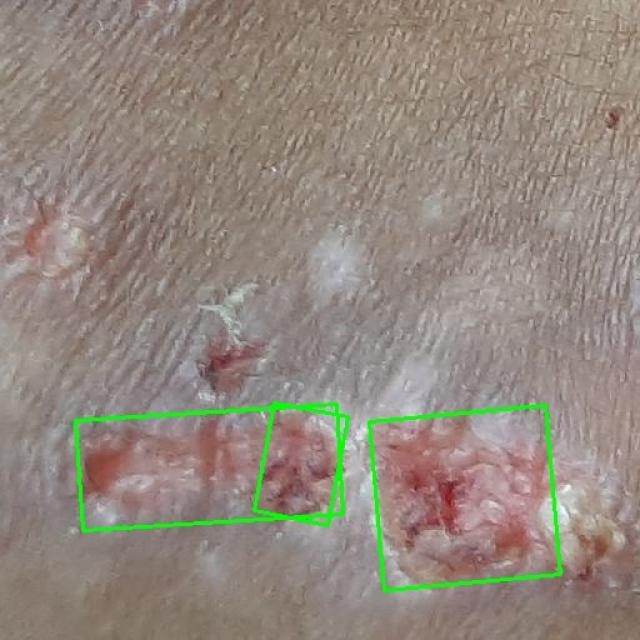Eczema: (369, 405, 561, 590), (76, 405, 344, 531), (254, 403, 348, 525)
